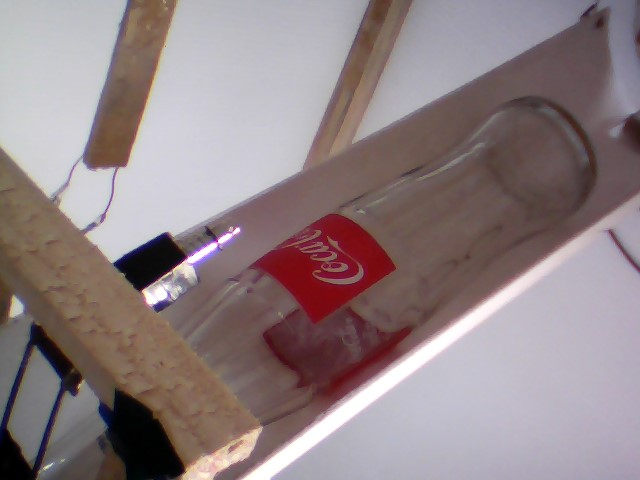vidrio: (178, 88, 608, 426)
